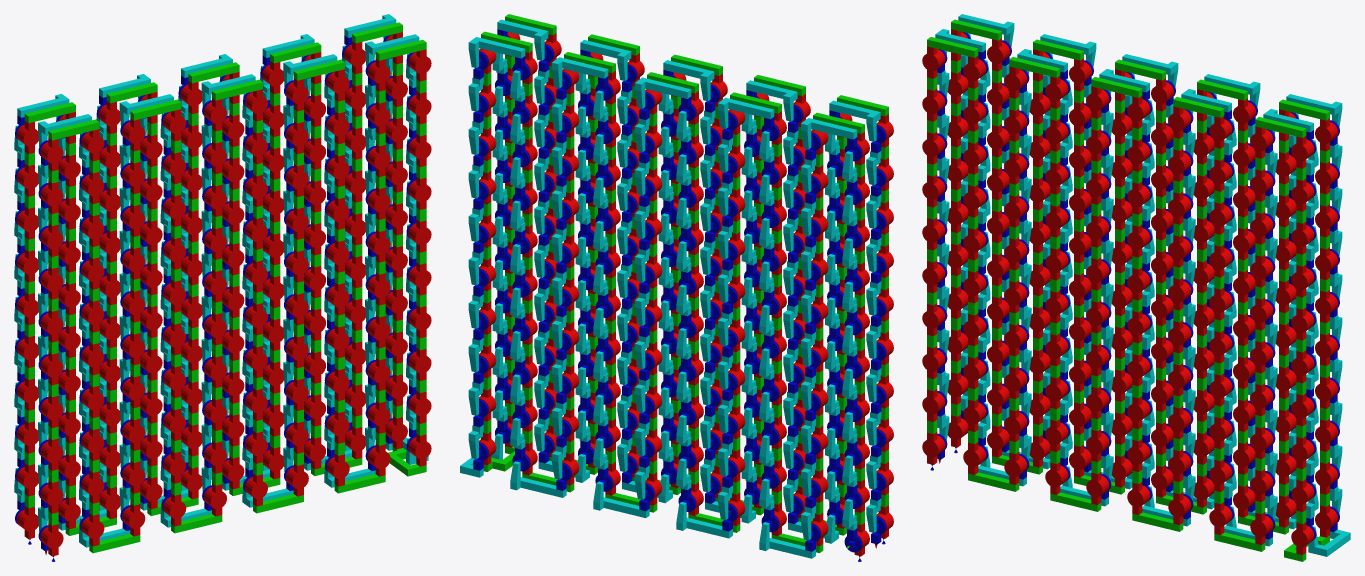
3 views of the same model, side by side, from view 1: azimuth 30°, elevation 25°; view 2: azimuth 150°, elevation 25°; view 3: azimuth 330°, elevation 25° (orthographic).
Parts seen in each view (by area): view 1: world; view 2: world; view 3: world.
Part boxes in pixels (<box>): world: <box>14,14,431,561</box>; world: <box>460,14,893,561</box>; world: <box>922,14,1350,561</box>.
Size of the model in its own units: 3.65 by 3.82 by 0.62.
